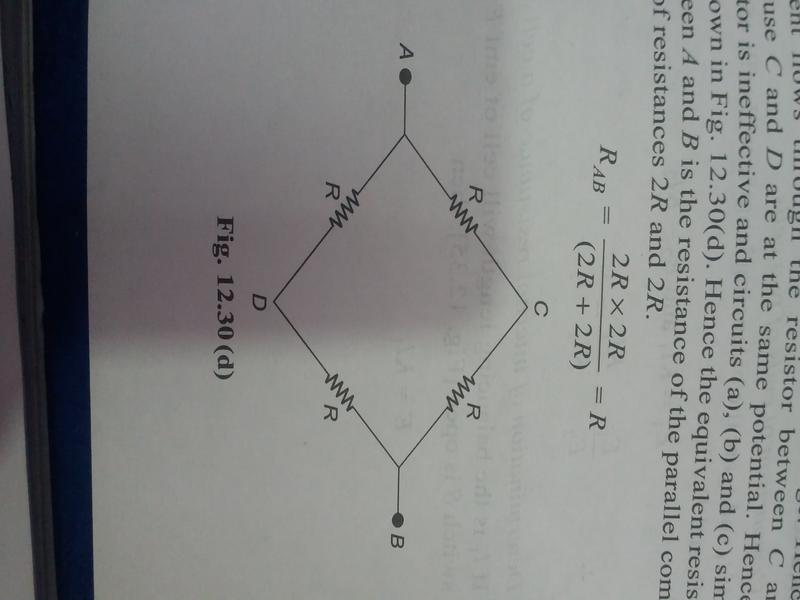resistor: (435, 347, 486, 429), (436, 177, 491, 249), (323, 172, 369, 240), (316, 361, 362, 422)
